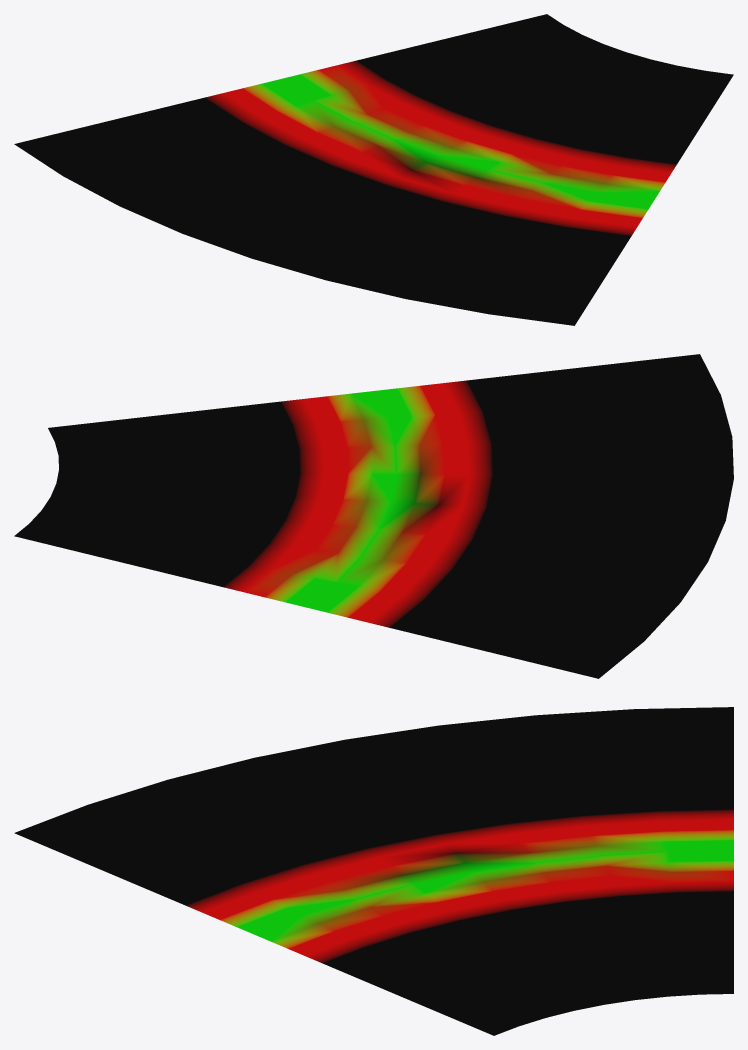
The model's file is Section_WayBend45Angle01_Forest_Terrain.fbx.
The picture shows the model from 3 angles, top to bottom: view 1: azimuth 30°, elevation 25°; view 2: azimuth 150°, elevation 25°; view 3: azimuth 270°, elevation 25°; orthographic projection. The views are drawn at different scales.
Parts seen in each view (by area): view 1: Section_WayBend45Angle01_Forest_Terrain; view 2: Section_WayBend45Angle01_Forest_Terrain; view 3: Section_WayBend45Angle01_Forest_Terrain.
Boxes of the visible parts, left/top/right/bottom form: Section_WayBend45Angle01_Forest_Terrain: left=14, top=14, right=733, bottom=325; Section_WayBend45Angle01_Forest_Terrain: left=14, top=354, right=733, bottom=678; Section_WayBend45Angle01_Forest_Terrain: left=14, top=707, right=733, bottom=1035.
Size of the model in its own units: 8025 by 0 by 7425.
